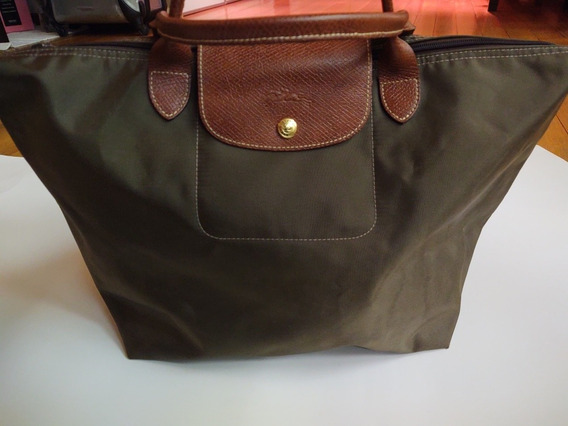cartera: (2, 9, 568, 363)
